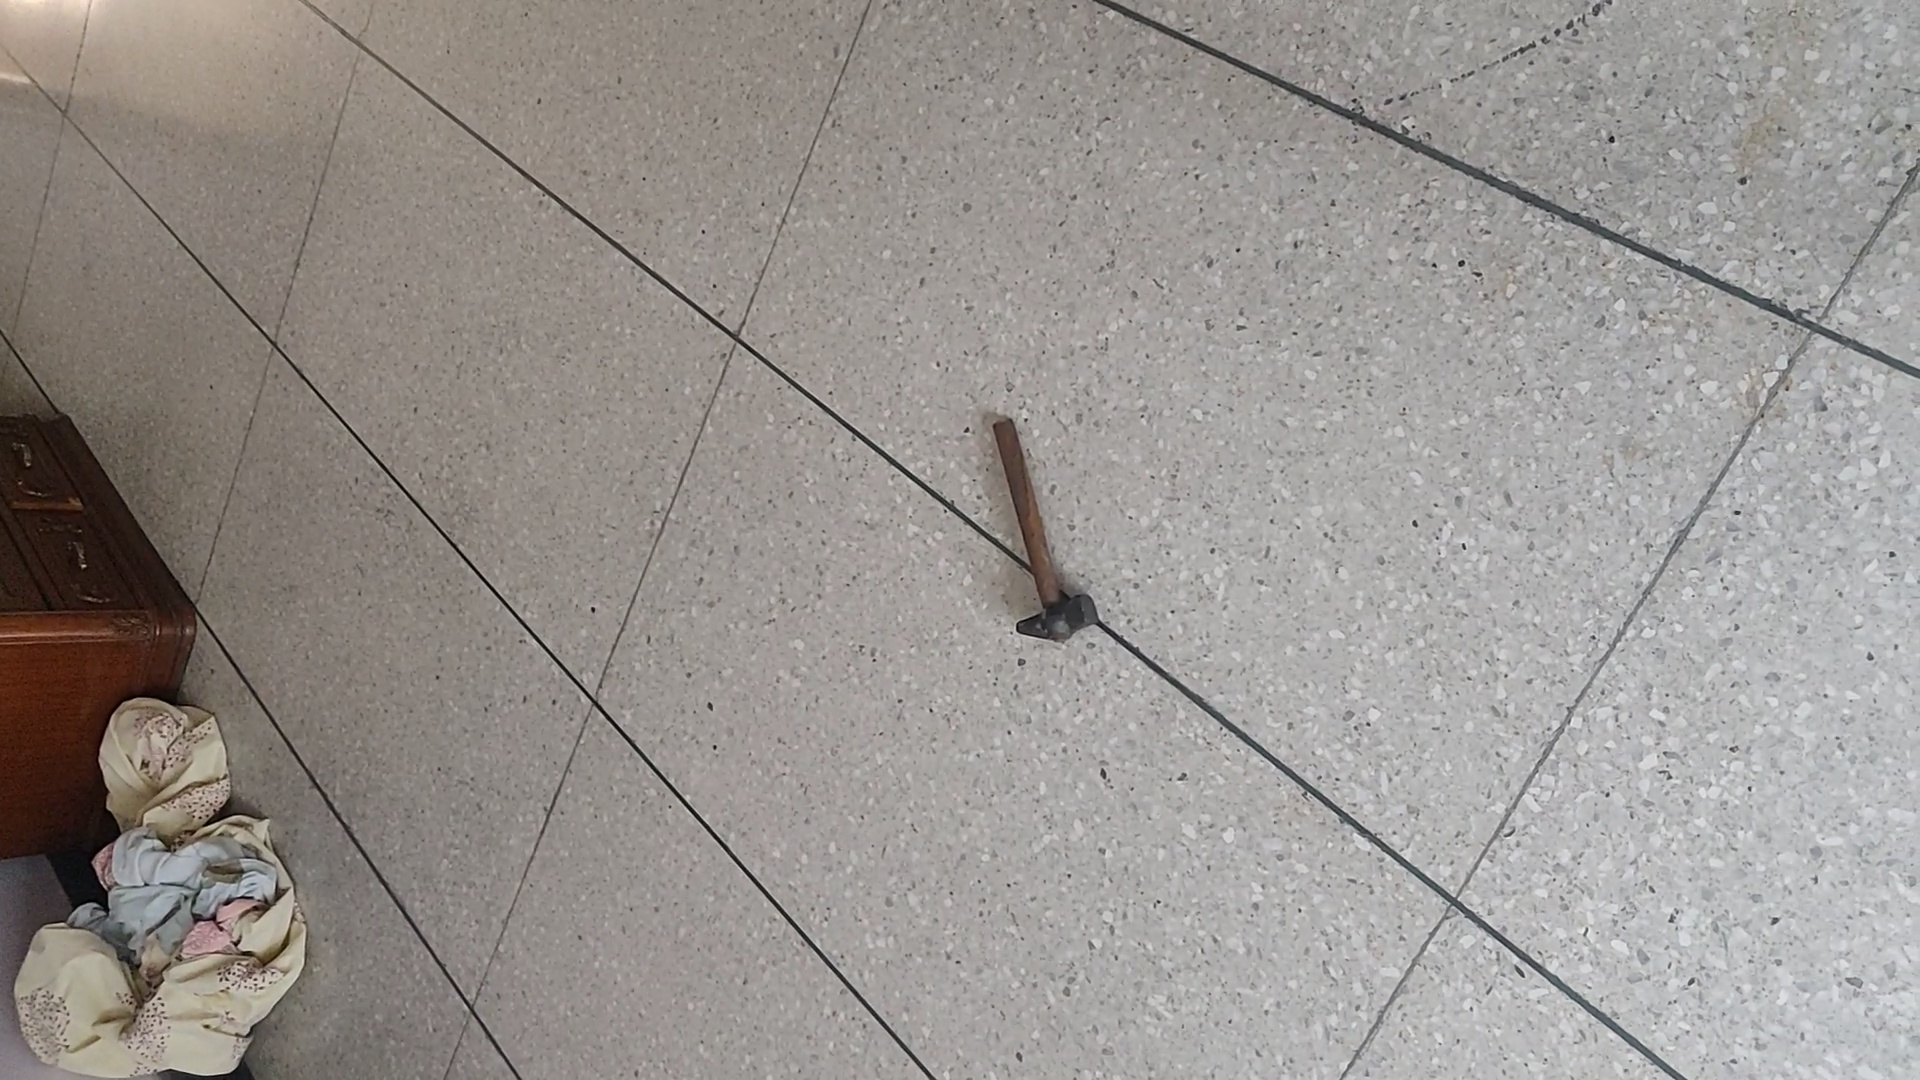hammer: (992, 415, 1102, 647)
